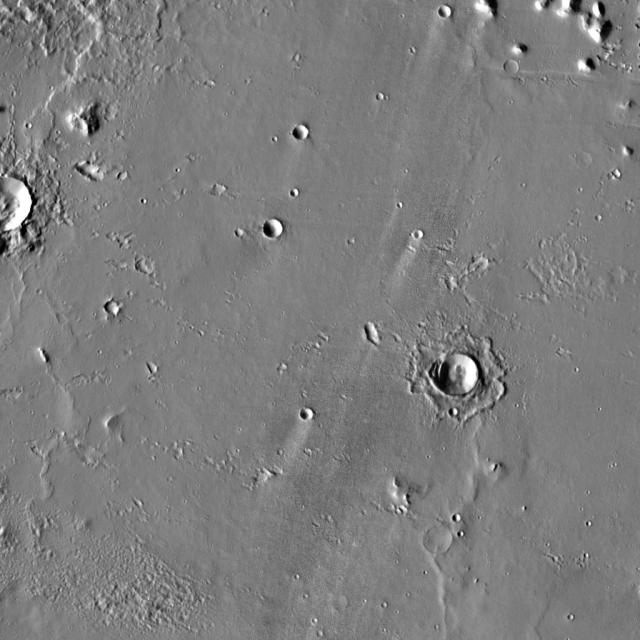crater: (431, 354, 478, 400), (0, 180, 35, 233), (424, 526, 455, 557), (266, 221, 284, 238), (577, 152, 594, 169), (366, 327, 382, 343), (295, 126, 310, 142), (139, 258, 155, 273), (334, 596, 349, 612), (82, 164, 97, 179), (506, 60, 520, 76), (107, 303, 121, 318), (255, 473, 268, 486), (302, 411, 314, 422), (119, 172, 130, 182), (93, 173, 103, 184), (215, 184, 226, 194), (583, 156, 594, 166), (148, 362, 159, 372), (416, 231, 426, 241), (441, 9, 451, 19), (292, 190, 302, 199), (399, 506, 409, 515), (135, 498, 144, 507), (278, 364, 288, 372), (107, 232, 116, 240), (455, 515, 463, 523), (614, 170, 622, 178), (388, 328, 396, 336), (448, 283, 456, 291), (238, 230, 245, 238), (343, 232, 351, 239), (294, 53, 301, 61), (312, 324, 319, 332), (170, 440, 178, 447), (110, 501, 118, 508), (380, 96, 387, 103), (20, 118, 28, 124), (310, 625, 318, 631), (405, 42, 412, 48), (268, 131, 274, 137), (148, 58, 154, 64), (166, 434, 172, 440)
